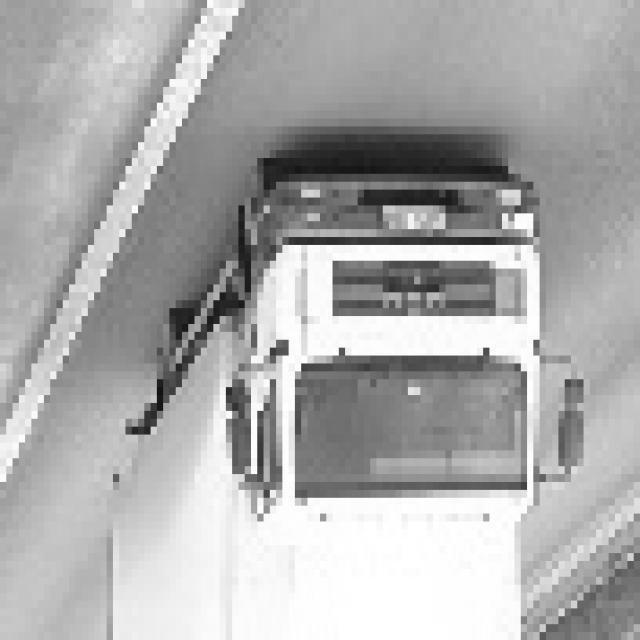truck: (221, 128, 598, 582)
